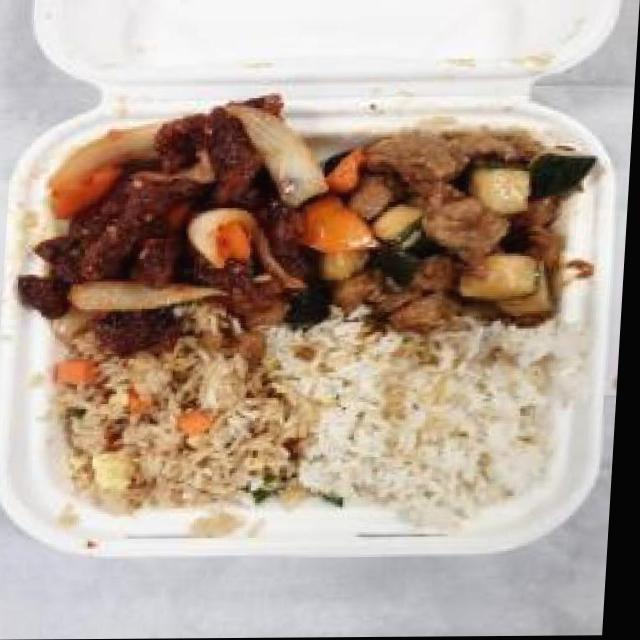Beijing Beef: (13, 95, 323, 355)
Fried Rice: (64, 338, 315, 517)
Kung Pao Chicken: (306, 129, 604, 341)
White Steamed Rice: (303, 330, 569, 514)
